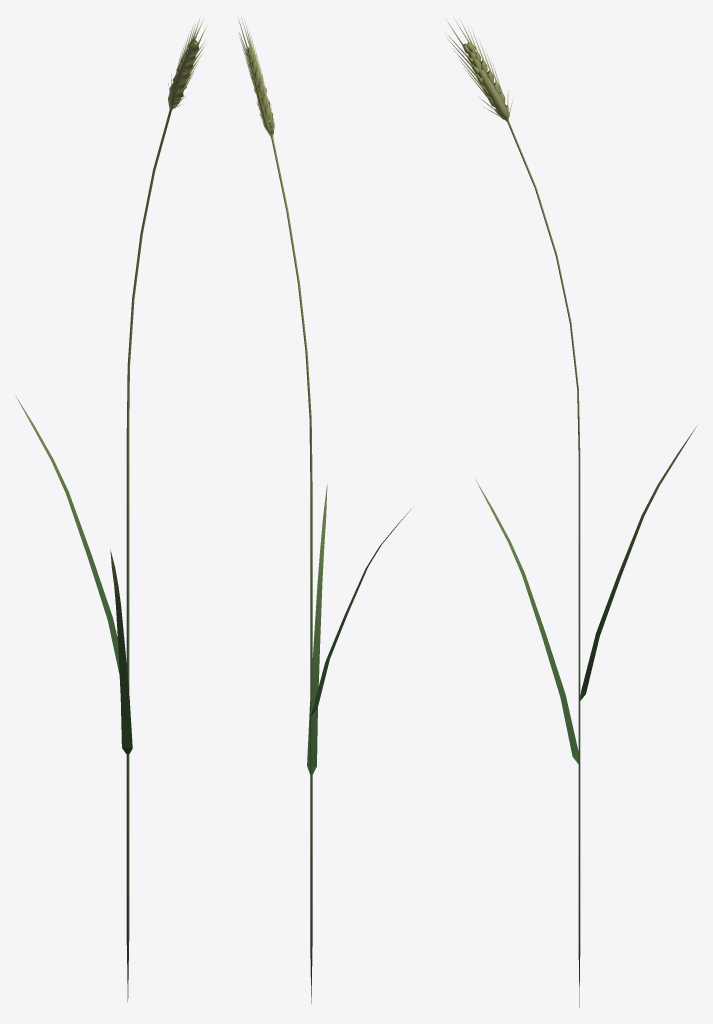
Rendered from trees-grasses-grass-stalk_v3.fbx.
3 views of the same model, side by side, from view 1: azimuth 30°, elevation 25°; view 2: azimuth 210°, elevation 25°; view 3: azimuth 270°, elevation 25° (orthographic). The views are drawn at different scales.
Parts seen in each view (by area): view 1: Grass Stalk_v3; view 2: Grass Stalk_v3; view 3: Grass Stalk_v3.
Part boxes in pixels (x1,y1,x2,y2): Grass Stalk_v3: (16, 17, 207, 1001); Grass Stalk_v3: (238, 17, 413, 1003); Grass Stalk_v3: (445, 17, 696, 1007).
Bounding box in the file's own units: 0.0678 × 0.8 × 0.1842.
